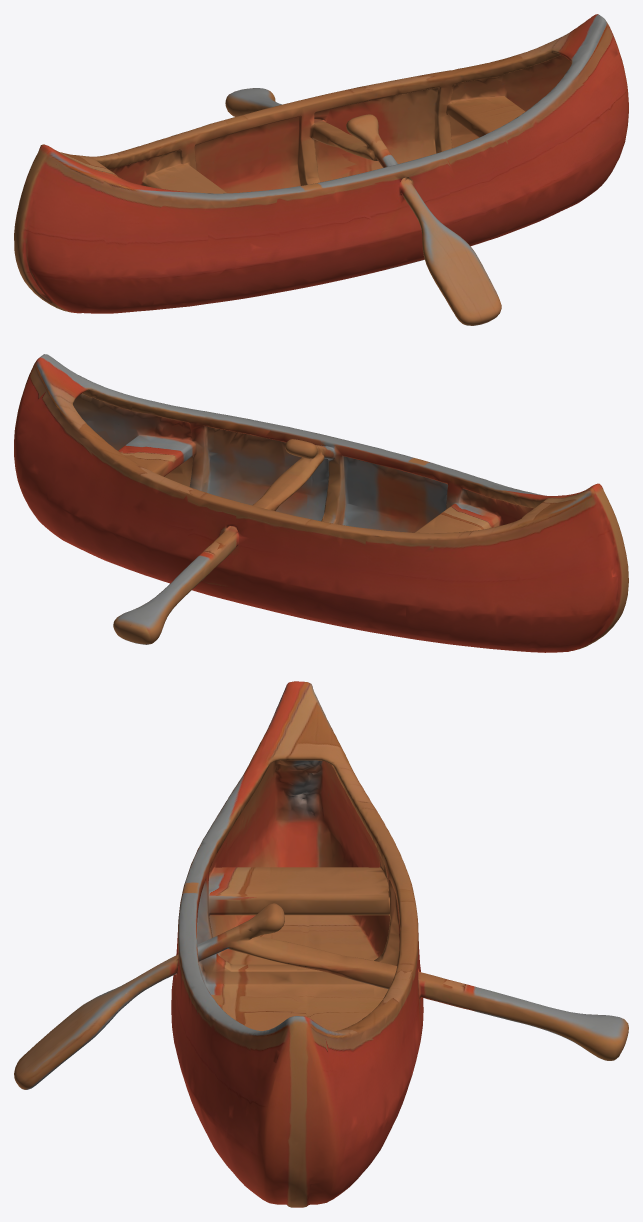
The model's file is canoe.glb.
3 renders of one model, top to bottom at view 1: azimuth 30°, elevation 25°; view 2: azimuth 150°, elevation 25°; view 3: azimuth 270°, elevation 25°, orthographic. The views are drawn at different scales.
Visible parts, largest first — view 1: tripo_node_07f7499e-7021-4ade-8e63-8182533cadb5; view 2: tripo_node_07f7499e-7021-4ade-8e63-8182533cadb5; view 3: tripo_node_07f7499e-7021-4ade-8e63-8182533cadb5.
Part boxes in pixels (bbox=[...]): tripo_node_07f7499e-7021-4ade-8e63-8182533cadb5: bbox=[14, 14, 628, 325]; tripo_node_07f7499e-7021-4ade-8e63-8182533cadb5: bbox=[14, 354, 628, 652]; tripo_node_07f7499e-7021-4ade-8e63-8182533cadb5: bbox=[14, 681, 628, 1207].
Bounding box in the file's own units: 0.9999 × 0.2804 × 0.7259.
Materials: 1 (1 with a texture image).
